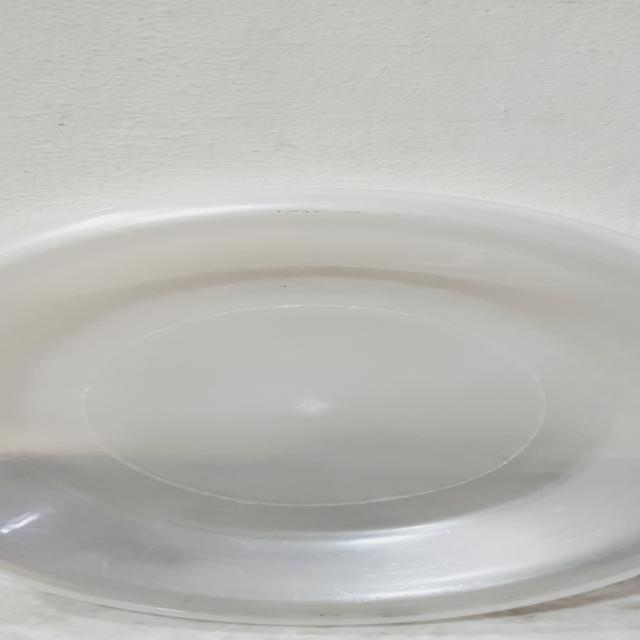plastic: (0, 178, 640, 635)
